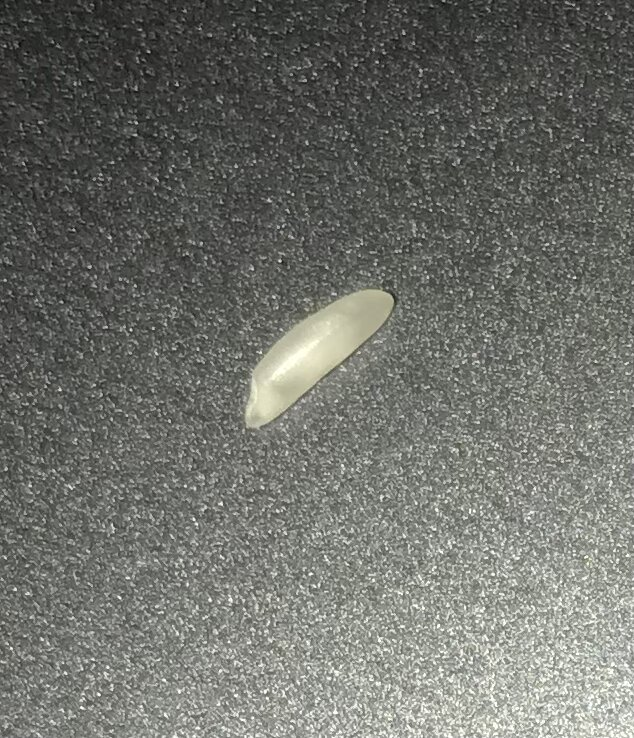Gao Long Lai: (242, 283, 398, 433)
